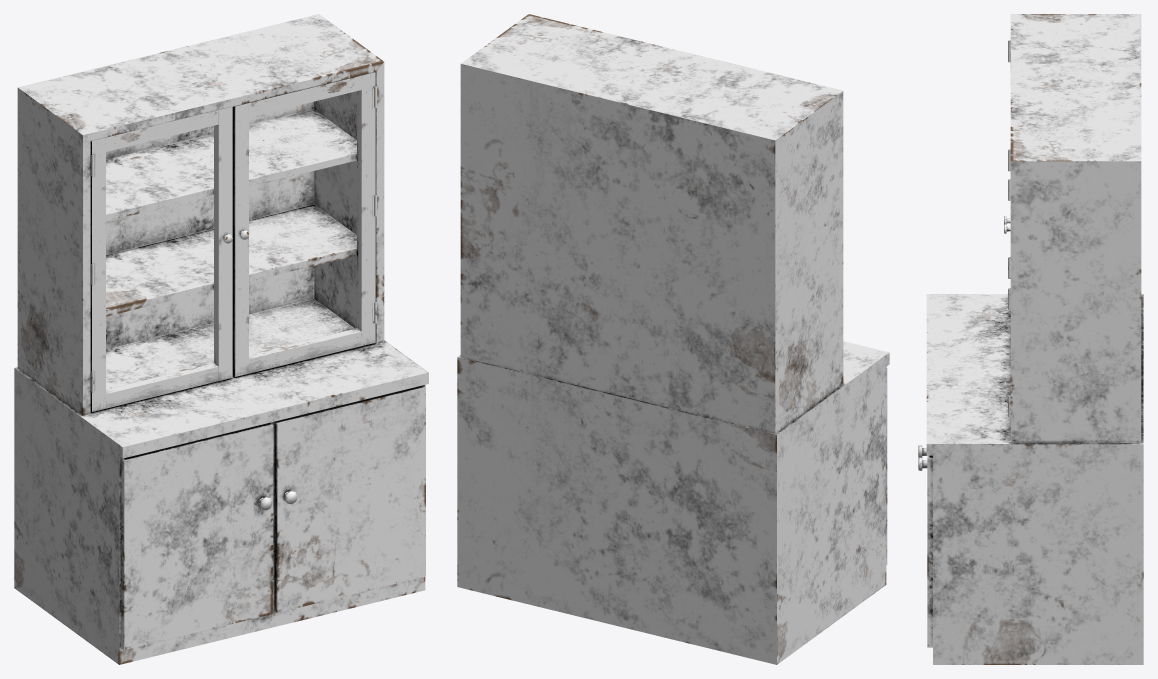
File: MedRack_AA.fbx
3 views of the same model, side by side, from view 1: azimuth 30°, elevation 25°; view 2: azimuth 150°, elevation 25°; view 3: azimuth 270°, elevation 25° (orthographic). The views are drawn at different scales.
Parts seen in each view (by area): view 1: MedRack, MedRackDoor_R, MedRackDoor_L; view 2: MedRack; view 3: MedRack.
Part boxes in pixels (<box>): MedRack: <box>14,14,428,664</box>; MedRackDoor_R: <box>232,72,377,376</box>; MedRackDoor_L: <box>90,107,232,411</box>; MedRack: <box>457,14,889,664</box>; MedRack: <box>918,14,1143,664</box>.
Bounding box in the file's own units: 1.35 × 0.8546 × 2.1.
